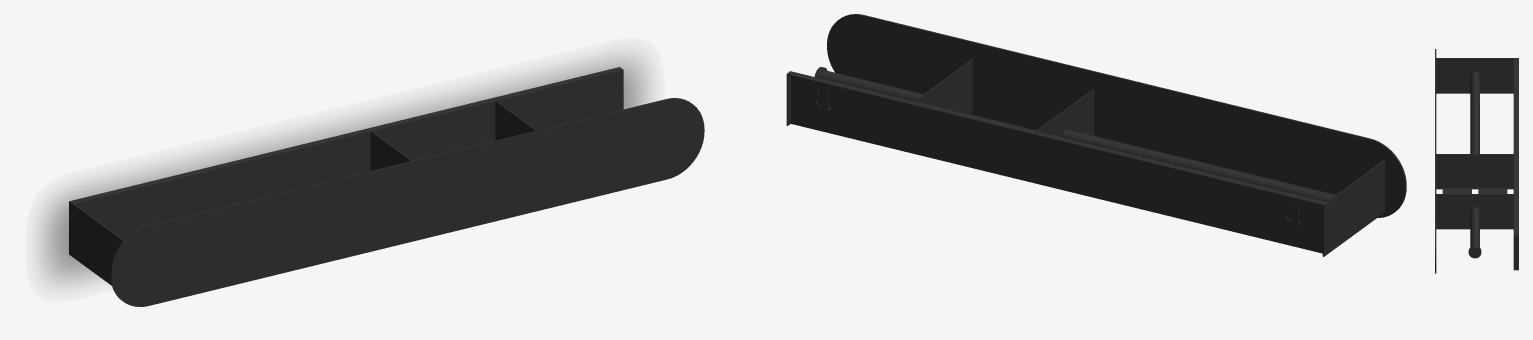
Rendered from round-trio.e261f3f6ba.ar.glb.
The picture shows the model from 3 angles, left to right: view 1: azimuth 30°, elevation 25°; view 2: azimuth 150°, elevation 25°; view 3: azimuth 270°, elevation 25°; orthographic projection. The views are drawn at different scales.
Visible parts, largest first — view 1: NAUO1, object 2; view 2: NAUO1; view 3: NAUO1.
Part boxes in pixels (x1,y1,x2,y2): NAUO1: [69, 67, 704, 306]; object 2: [41, 56, 648, 283]; NAUO1: [786, 14, 1406, 256]; NAUO1: [1435, 49, 1518, 273].
Bounding box in the file's own units: 0.78 × 0.17 × 0.13.
Materials: 2 (1 with a texture image).
